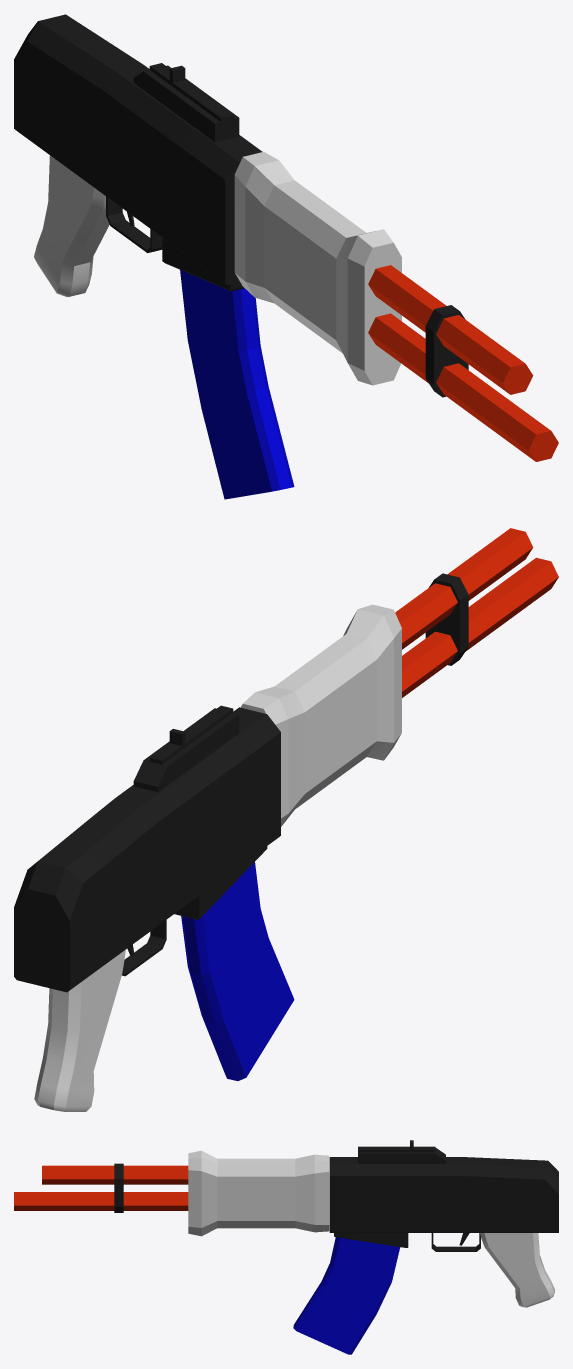
Rendered from AR_Barrel.fbx.
3 views of the same model, one above another, from view 1: azimuth 30°, elevation 25°; view 2: azimuth 150°, elevation 25°; view 3: azimuth 270°, elevation 25° (orthographic). The views are drawn at different scales.
Visible parts, largest first — view 1: Assault_Rifle; view 2: Assault_Rifle; view 3: Assault_Rifle.
Boxes of the visible parts, <box> form: Assault_Rifle: <box>14,14,558,499</box>; Assault_Rifle: <box>14,528,558,1111</box>; Assault_Rifle: <box>14,1140,558,1354</box>.
Bounding box in the file's own units: 0.032 × 0.2131 × 0.4983.
